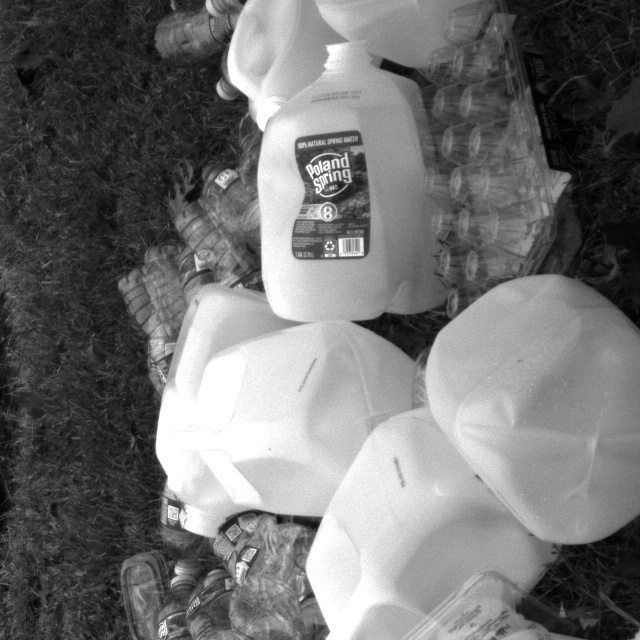bottle: (194, 158, 259, 250), (150, 6, 238, 64)
can: (304, 402, 564, 640), (414, 277, 640, 548), (253, 36, 448, 326), (195, 319, 431, 519), (146, 285, 292, 534), (218, 0, 361, 127), (312, 0, 520, 71)
container: (421, 0, 583, 334), (119, 550, 171, 640)
